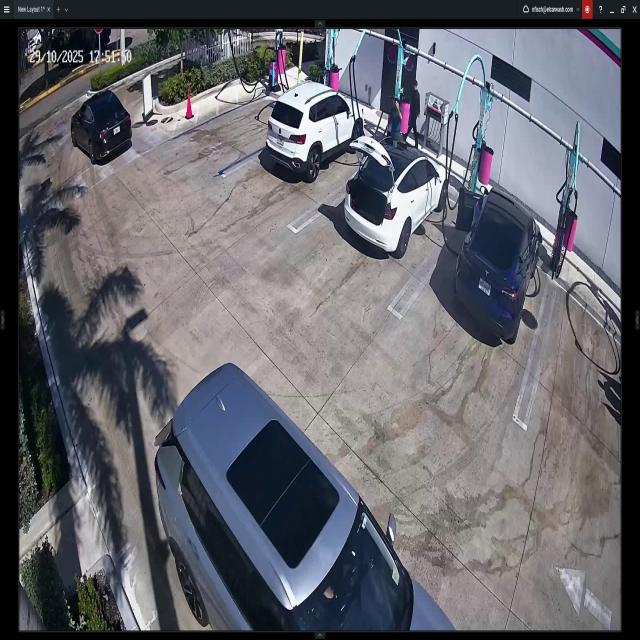Car: (151, 388, 458, 632), (451, 189, 543, 341), (346, 140, 448, 256), (272, 81, 362, 179), (71, 90, 134, 162)
